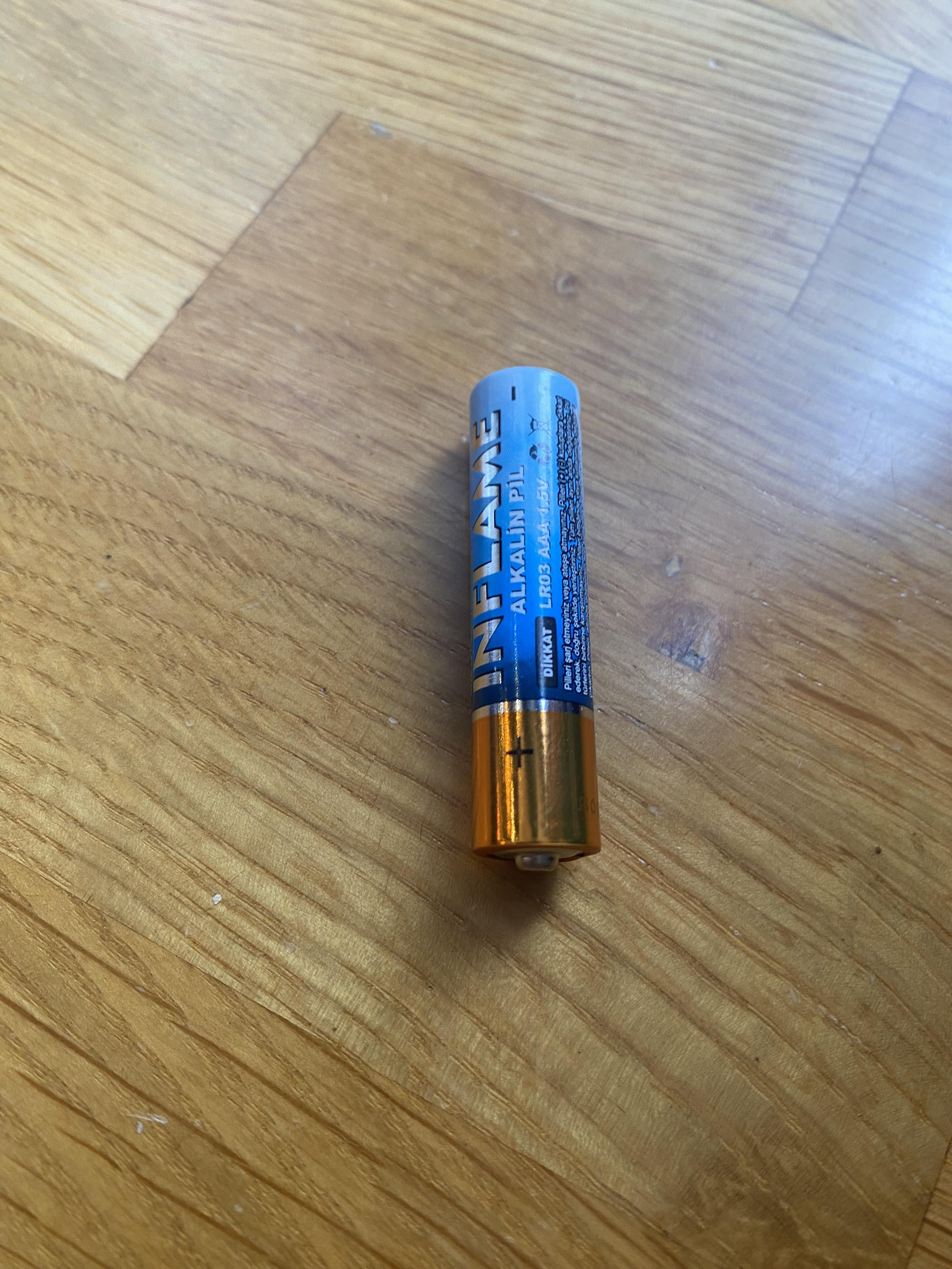AAA: (466, 364, 602, 872)
